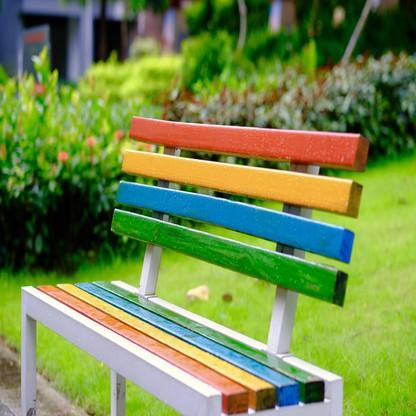obstacle: (19, 113, 385, 411)
